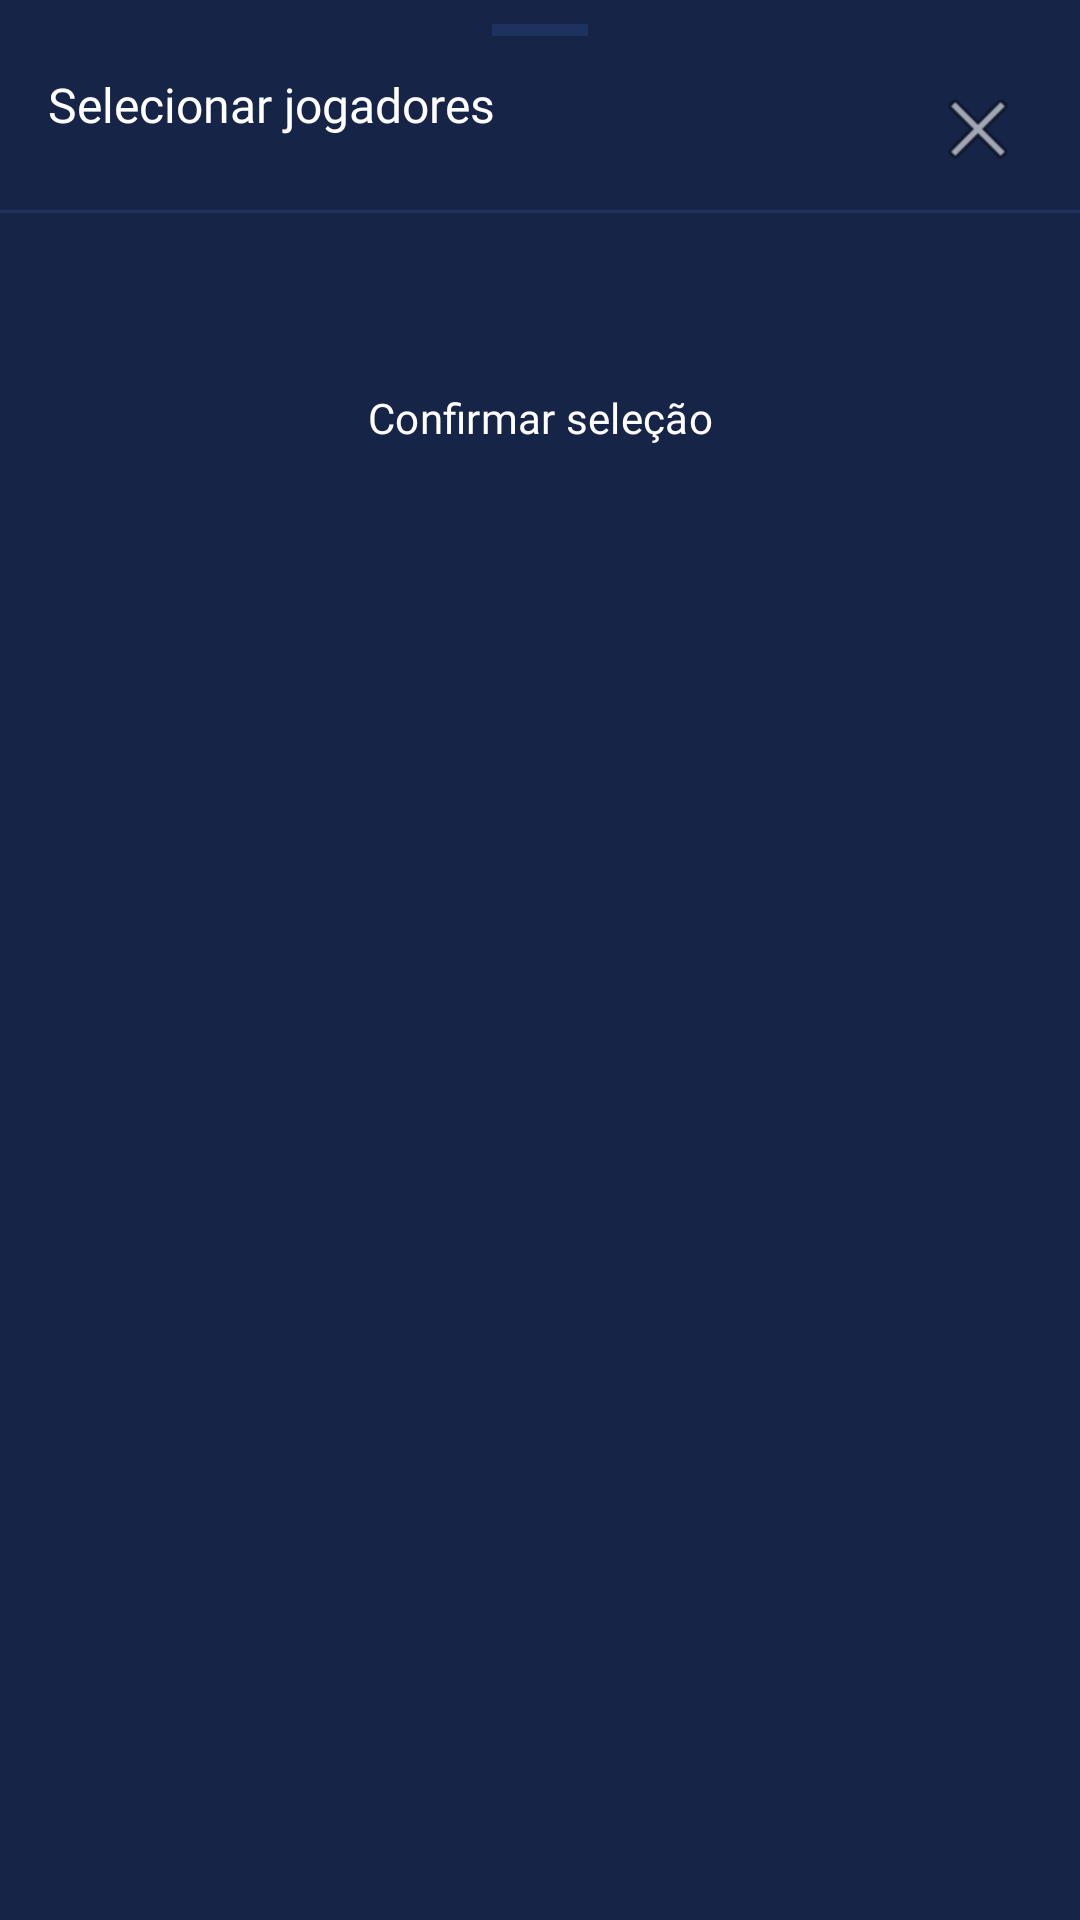

Named icons in this screenshot (1080×1920) and their centers, point (x, y):
Cancelar: point (978, 129)
